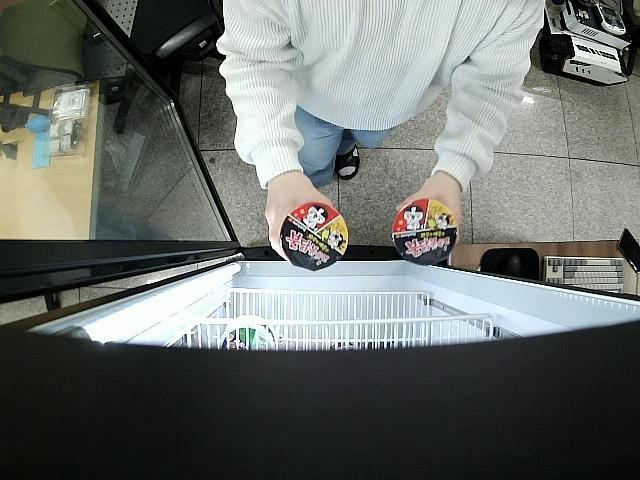08_buldak_S: (280, 202, 346, 272), (394, 200, 459, 266)
